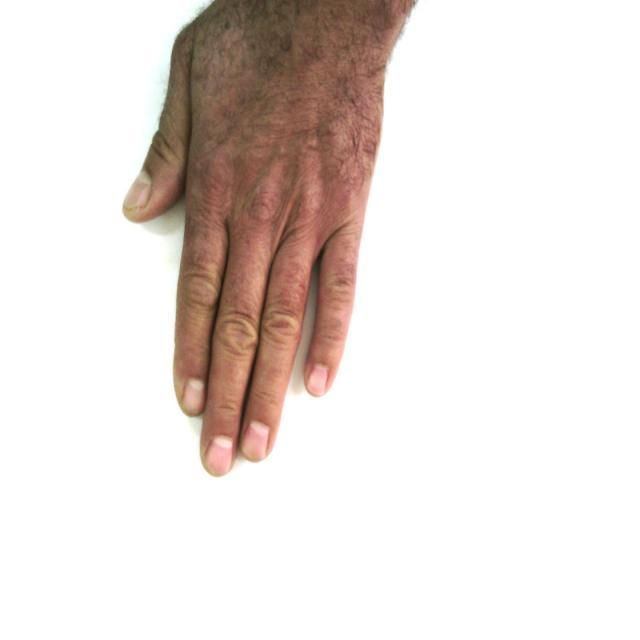Fingernail: (206, 438, 234, 476), (244, 423, 269, 461), (124, 174, 150, 210), (182, 379, 204, 415), (309, 365, 327, 396)
